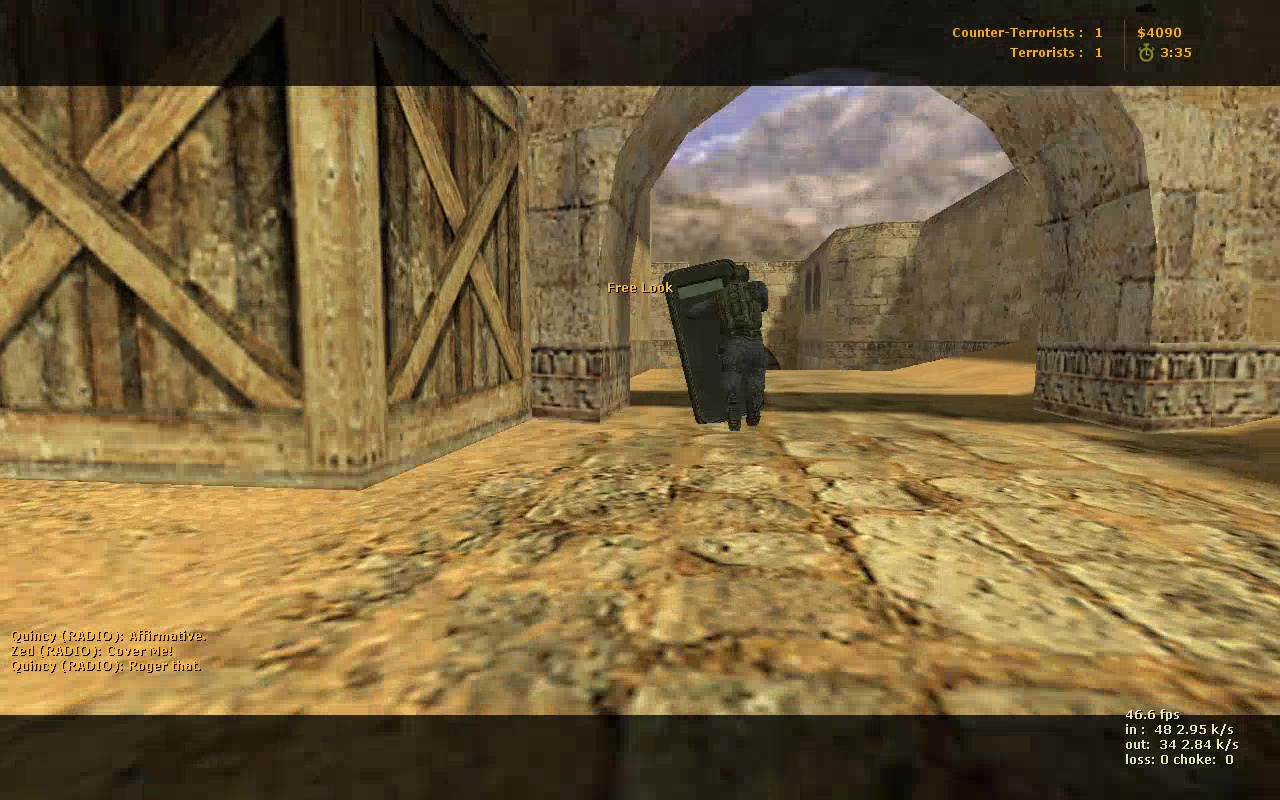ct: (664, 259, 771, 434)
